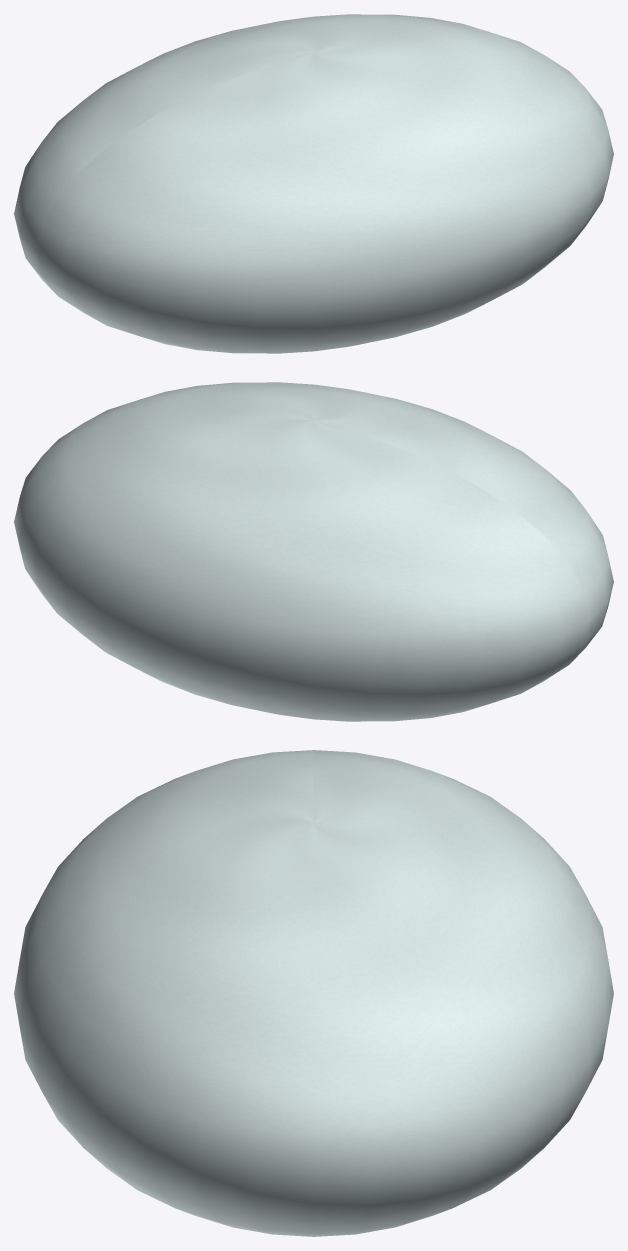
The model's file is polished_stone.glb.
3 views of the same model, one above another, from view 1: azimuth 30°, elevation 25°; view 2: azimuth 150°, elevation 25°; view 3: azimuth 270°, elevation 25° (orthographic). The views are drawn at different scales.
Parts seen in each view (by area): view 1: polished quartz cabochon; view 2: polished quartz cabochon; view 3: polished quartz cabochon.
Part boxes in pixels (x1,y1,x2,y2): polished quartz cabochon: (14,14,613,353); polished quartz cabochon: (14,382,613,721); polished quartz cabochon: (14,750,613,1236).
Size of the model in its own units: 0.11 by 0.05 by 0.08.
Materials: 1 (1 with a texture image).
